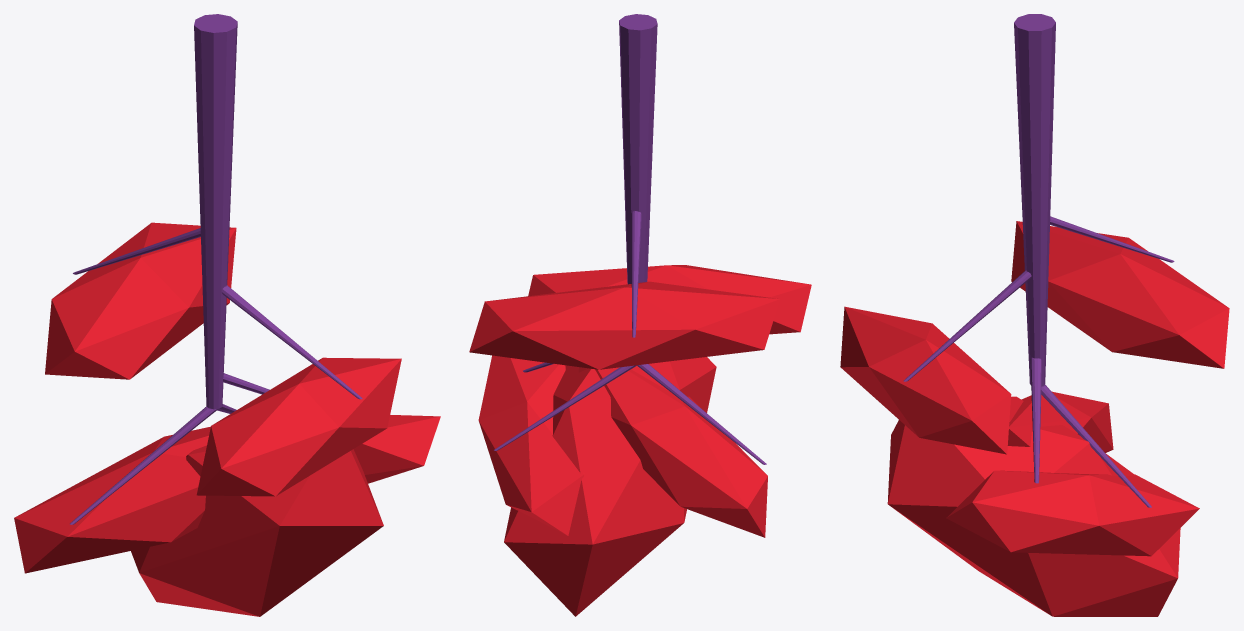
Rendered from tree.obj.
3 views of the same model, side by side, from view 1: azimuth 30°, elevation 25°; view 2: azimuth 150°, elevation 25°; view 3: azimuth 270°, elevation 25° (orthographic). The views are drawn at different scales.
Visible parts, largest first — view 1: leaves_obj_0.001, trunk_obj_0; view 2: leaves_obj_0.001, trunk_obj_0; view 3: leaves_obj_0.001, trunk_obj_0.
Part boxes in pixels (bbox=[...]): leaves_obj_0.001: bbox=[14, 222, 440, 616]; trunk_obj_0: bbox=[70, 14, 362, 524]; leaves_obj_0.001: bbox=[469, 265, 811, 616]; trunk_obj_0: bbox=[494, 14, 766, 464]; leaves_obj_0.001: bbox=[840, 221, 1229, 616]; trunk_obj_0: bbox=[903, 14, 1174, 507].
Size of the model in its own units: 16.48 by 27.52 by 16.4.
